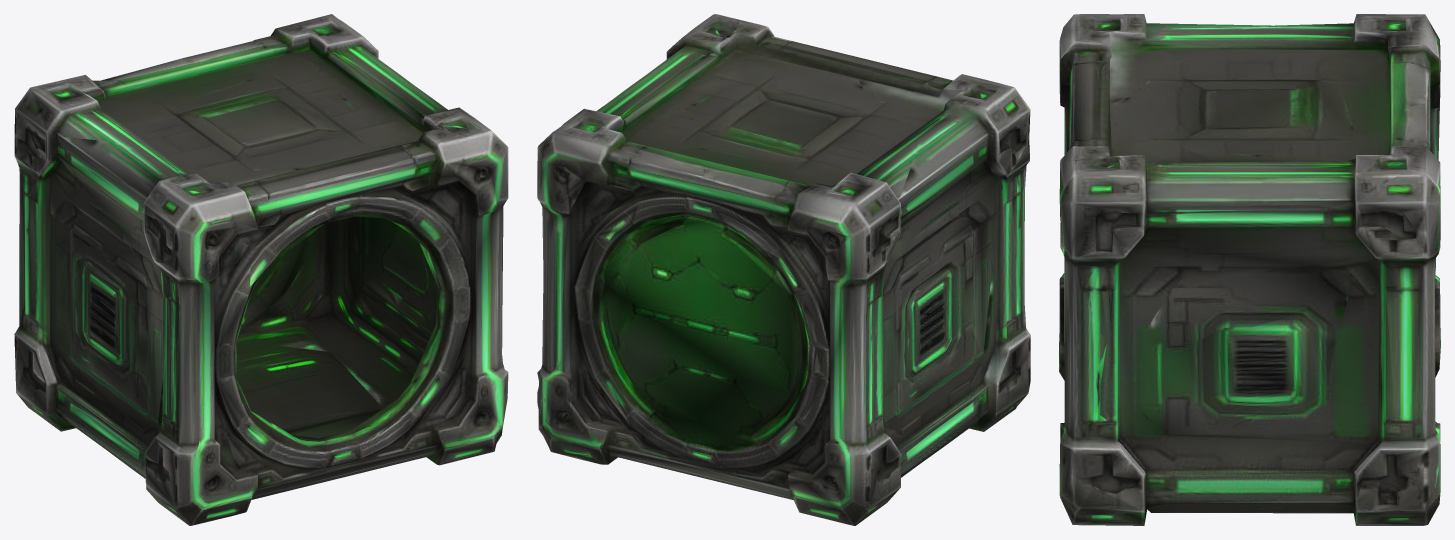
Rendered from main-empty-vault.glb.
3 renders of one model, left to right at view 1: azimuth 30°, elevation 25°; view 2: azimuth 150°, elevation 25°; view 3: azimuth 270°, elevation 25°, orthographic. The views are drawn at different scales.
Visible parts, largest first — view 1: material; view 2: material; view 3: material.
Part boxes in pixels (x1=…): material: x1=14, y1=14, x2=508, y2=525; material: x1=537, y1=14, x2=1030, y2=525; material: x1=1059, y1=14, x2=1440, y2=525.
Bounding box in the file's own units: 0.7739 × 0.718 × 0.7063.
1 material, 1 textured.
